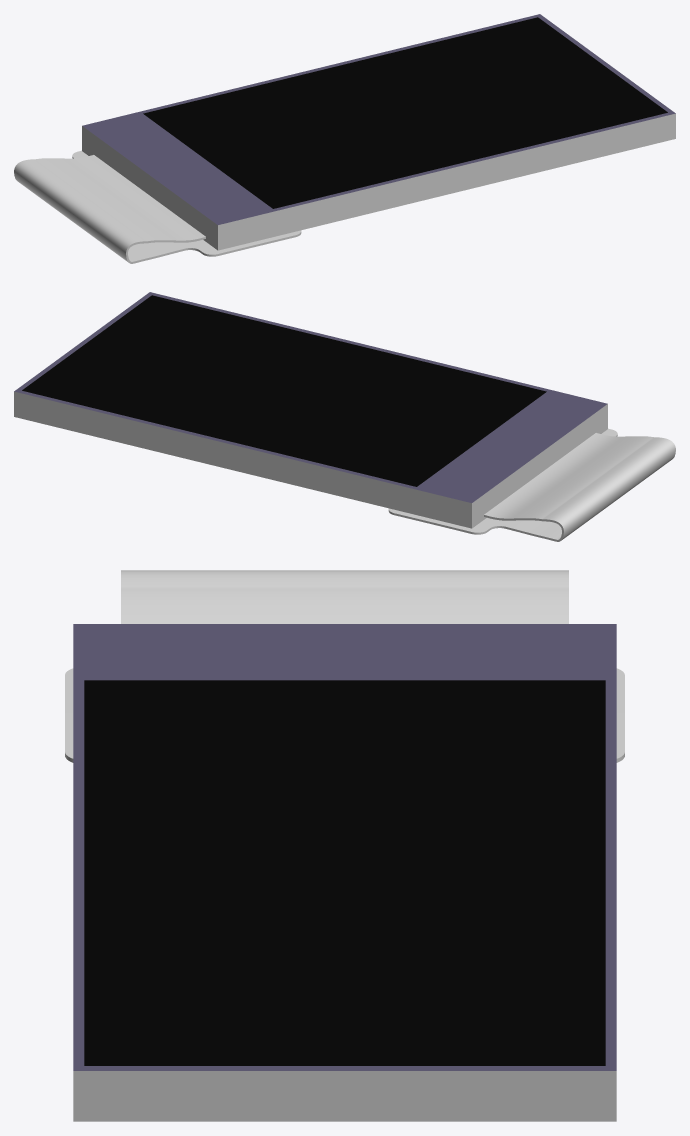
Rendered from Main_Screen.dae.
3 renders of one model, top to bottom at view 1: azimuth 30°, elevation 25°; view 2: azimuth 150°, elevation 25°; view 3: azimuth 270°, elevation 25°, orthographic. The views are drawn at different scales.
Parts seen in each view (by area): view 1: Main_Screen; view 2: Main_Screen; view 3: Main_Screen.
Part boxes in pixels (<box>): Main_Screen: <box>14,14,675,263</box>; Main_Screen: <box>14,292,675,541</box>; Main_Screen: <box>65,570,624,1121</box>.
Bounding box in the file's own units: 0.0277 × 0.0125 × 0.00146.
